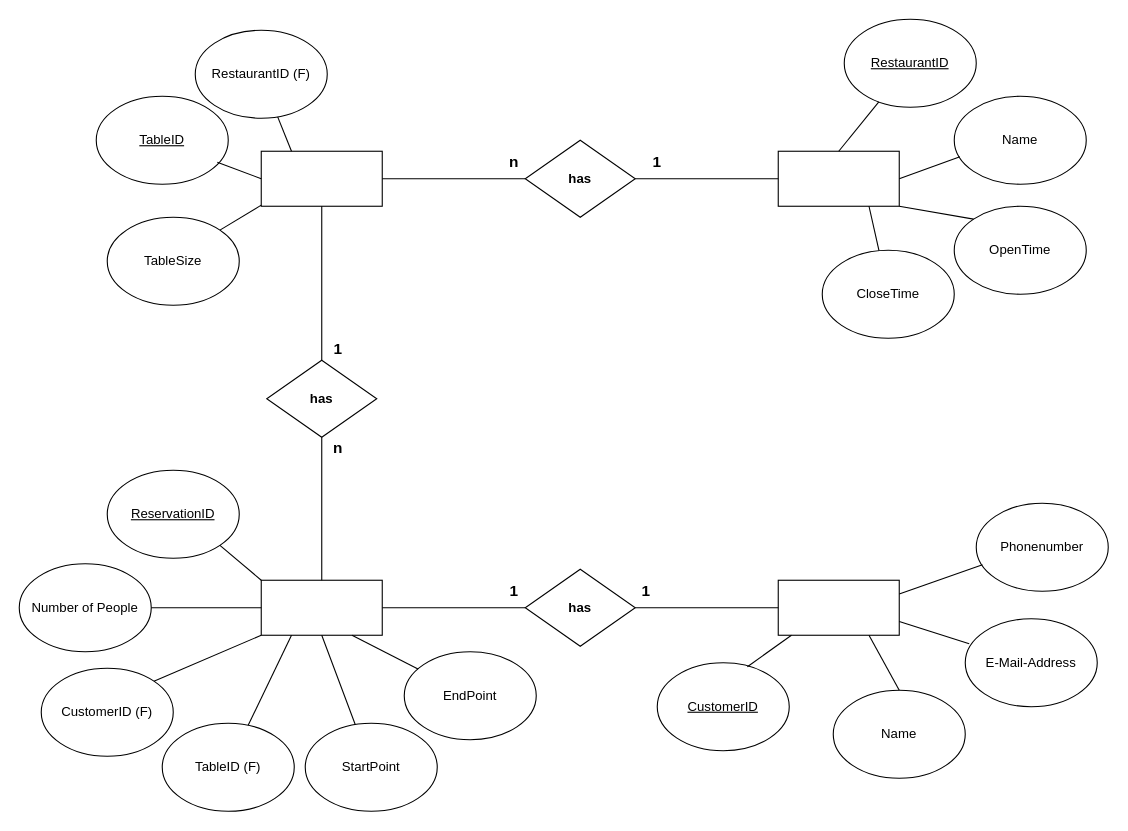
Image size: 1128x831. Some labels were removed from this diagram. Here are the shapes that lost their labels. From the top down, the centre of each, then its label:
the point at 321,178: Table
the point at 838,178: Restaurant
the point at 321,607: Reservation
the point at 838,607: Customer
